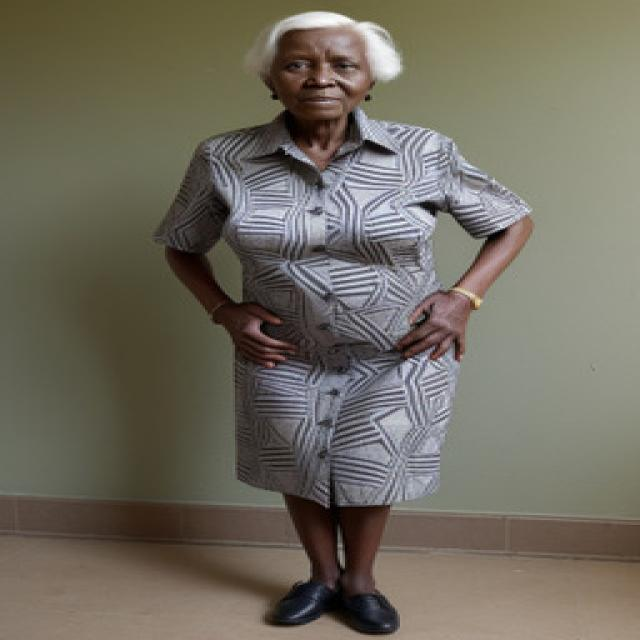Ai human 2: (150, 6, 554, 640)
